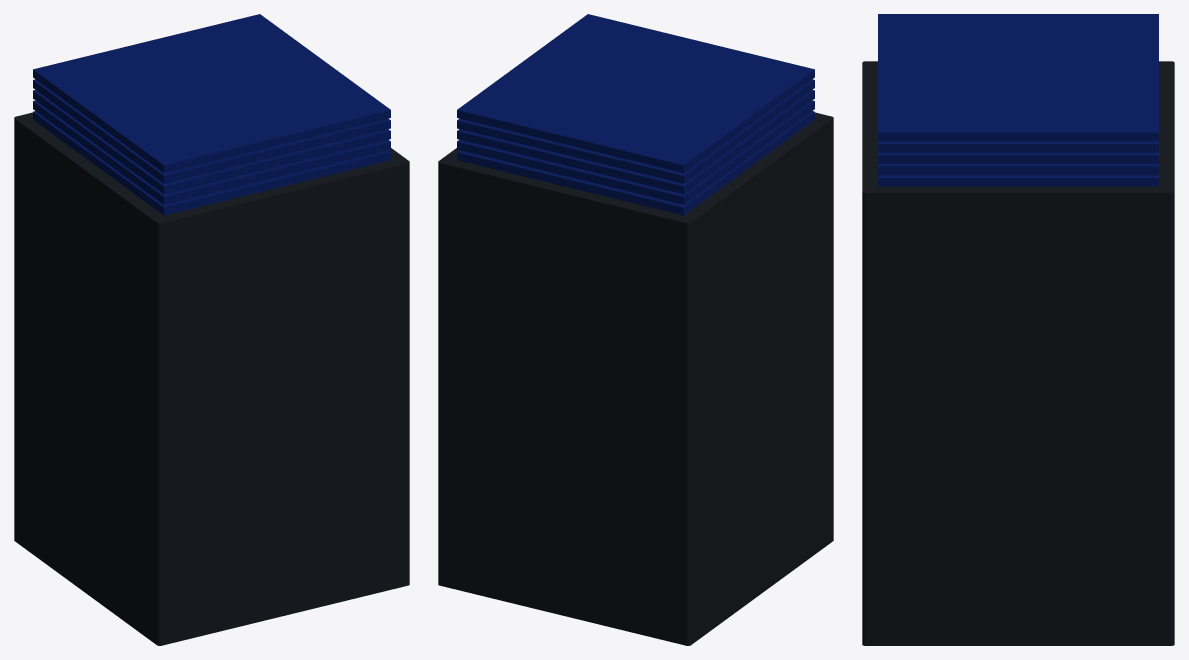
The model's file is tray_feeder.glb.
3 views of the same model, side by side, from view 1: azimuth 30°, elevation 25°; view 2: azimuth 150°, elevation 25°; view 3: azimuth 270°, elevation 25° (orthographic). The views are drawn at different scales.
Parts seen in each view (by area): view 1: tray_feeder; view 2: tray_feeder; view 3: tray_feeder.
Part boxes in pixels (x1,y1,x2,y2): tray_feeder: [14, 14, 409, 645]; tray_feeder: [438, 14, 833, 645]; tray_feeder: [862, 14, 1174, 645].
Bounding box in the file's own units: 0.5 × 0.895 × 0.5.
